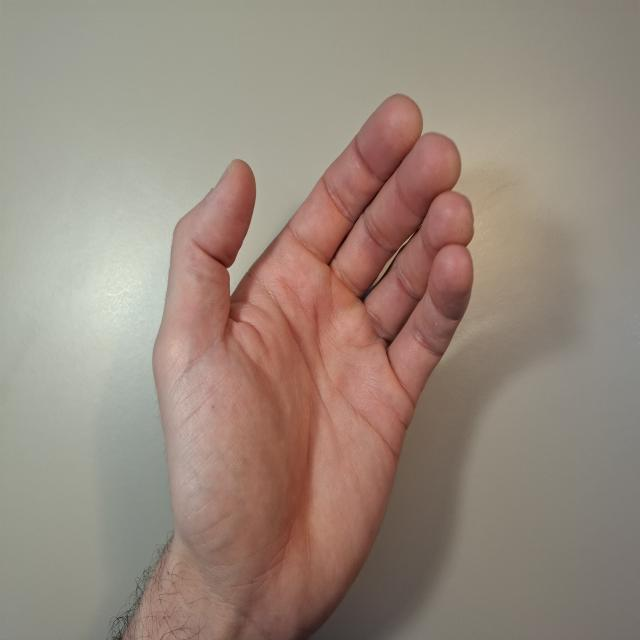glove_off: (148, 91, 476, 639)
